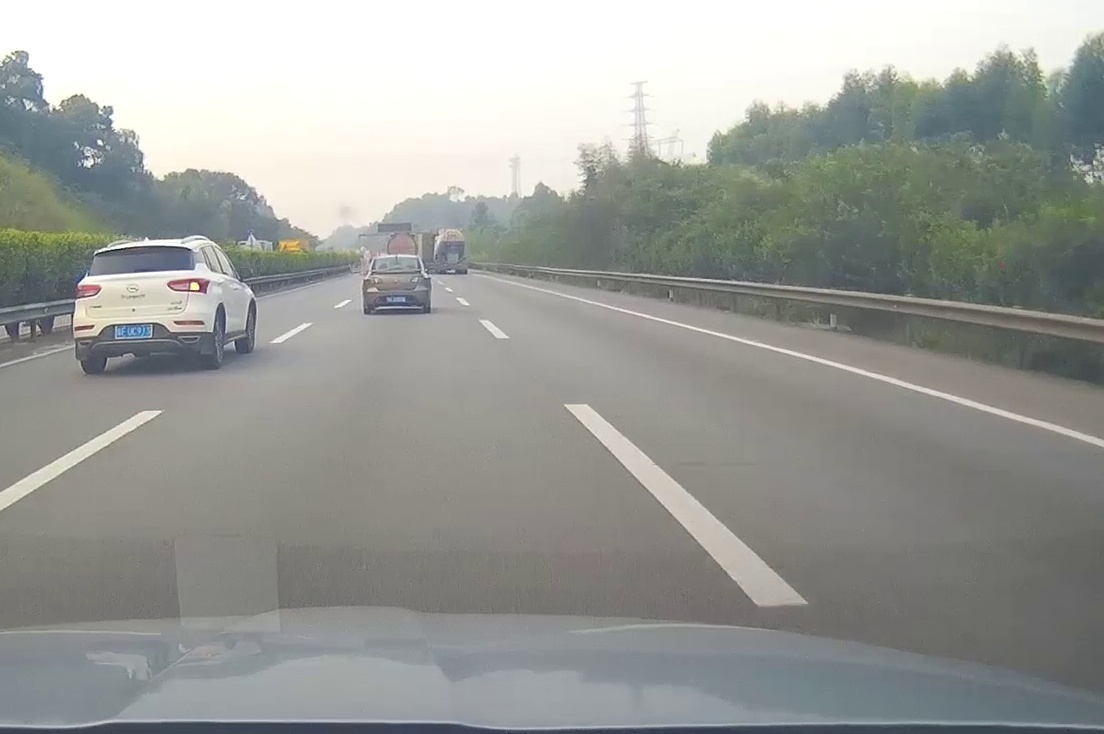L_light: (75, 285, 101, 298), (365, 277, 382, 284)
R_light: (166, 278, 210, 293), (411, 276, 425, 282)
T_light: (124, 248, 143, 253), (394, 258, 402, 260)
day-no: (362, 256, 431, 314)
day-right: (73, 243, 211, 376)
